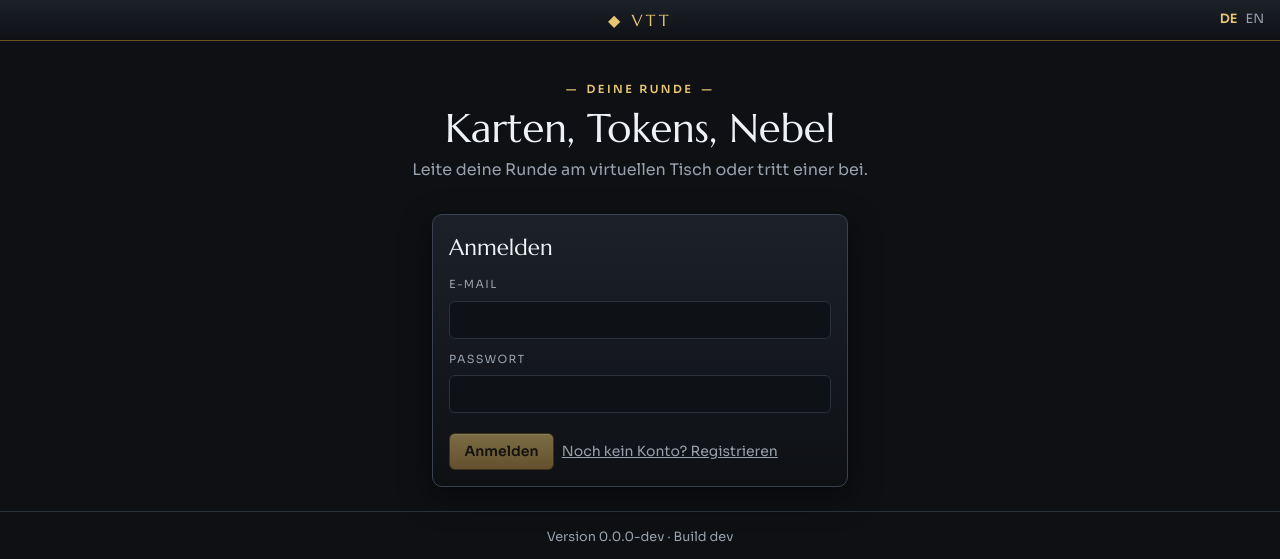
Test: Umschalten auf Englisch wirkt sofort und wird gespeichert
Expected: the field labelled "E-Mail" is shown, [449, 301, 831, 339]
Expected: the heading "Anmelden" is shown, [449, 233, 553, 261]
der Besucher loest `English` aus.
Click the button with aria-label "English": (1255, 20) [1246, 10, 1264, 30]
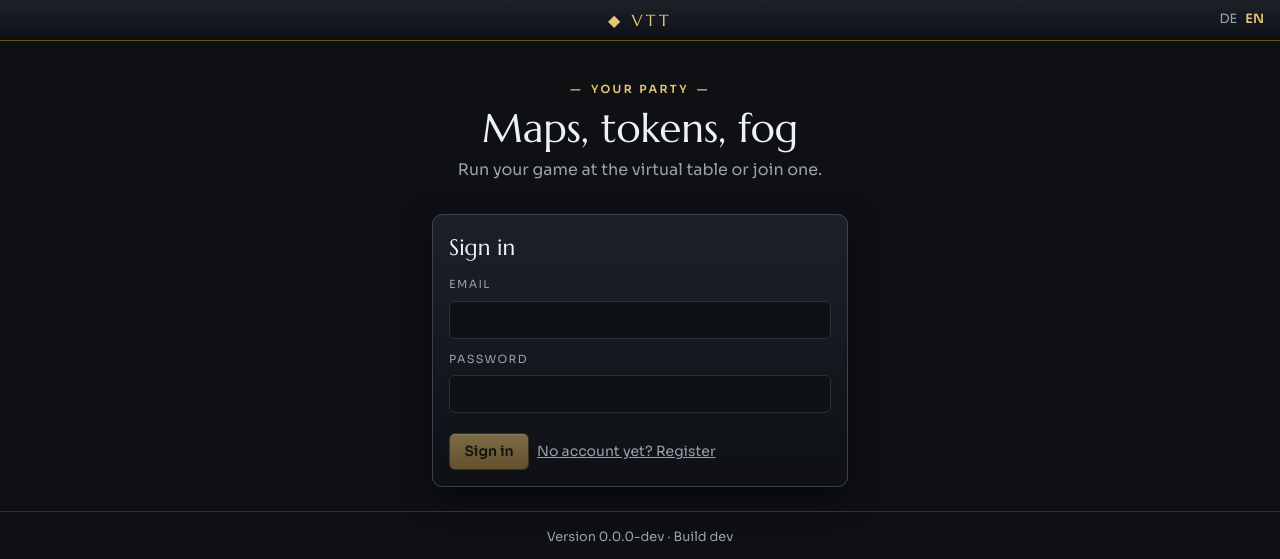
Expected: the heading "Sign in" is shown, [449, 233, 515, 261]
Expected: the button "Sign in" is shown, [449, 433, 529, 470]
Expected: the button "No account yet? Register" is shown, [537, 441, 716, 462]
